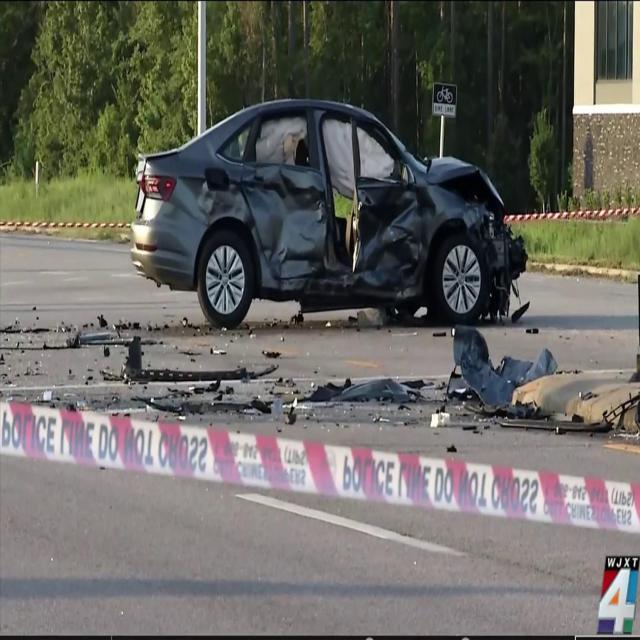damaged: (172, 133, 532, 320)
